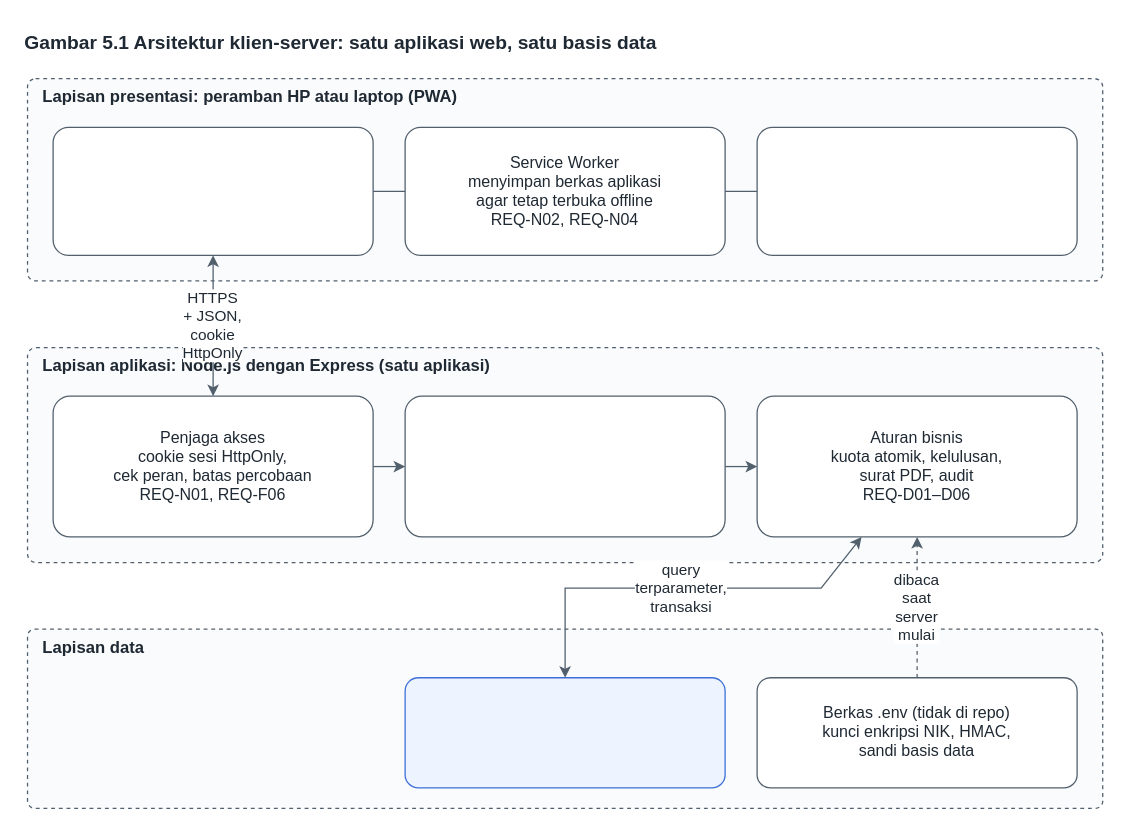
The diagram is 1129 pixels wide and 831 high, and some of its shapes have lost their labels. Each missing label, with the centre of its shape:
Halaman HTML, CSS, JS formulir, antrean, presensi, evaluasi REQ-F01–F11, REQ-N03: point 212,190
IndexedDB antrean presensi offline, nama tanpa NIK REQ-N02, REQ-N01: point 916,190
MariaDB 9 tabel ERD, transaksi REQ-D01, REQ-D05: point 564,732
REST API /api/v1 pendaftaran, seleksi, presensi batch-sync, evaluasi REQ-F01–F04: point 564,466
